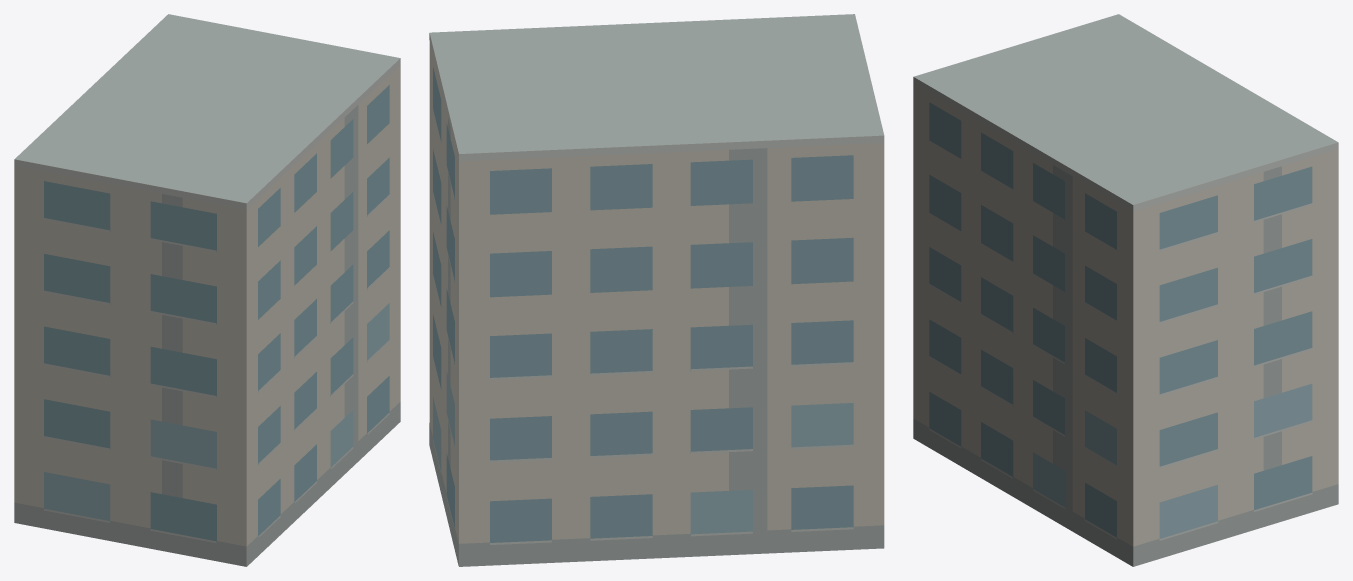
The model's file is survey-upis-33043176.glb.
3 views of the same model, side by side, from view 1: azimuth 30°, elevation 25°; view 2: azimuth 150°, elevation 25°; view 3: azimuth 270°, elevation 25° (orthographic). The views are drawn at different scales.
Parts seen in each view (by area): view 1: survey-upis-33043176.tmp; view 2: survey-upis-33043176.tmp; view 3: survey-upis-33043176.tmp.
Part boxes in pixels (left/top/right/bottom): survey-upis-33043176.tmp: left=14, top=14, right=400, bottom=566; survey-upis-33043176.tmp: left=429, top=14, right=884, bottom=566; survey-upis-33043176.tmp: left=913, top=14, right=1338, bottom=566.
Bounding box in the file's own units: 15.35 × 13.55 × 14.44.
